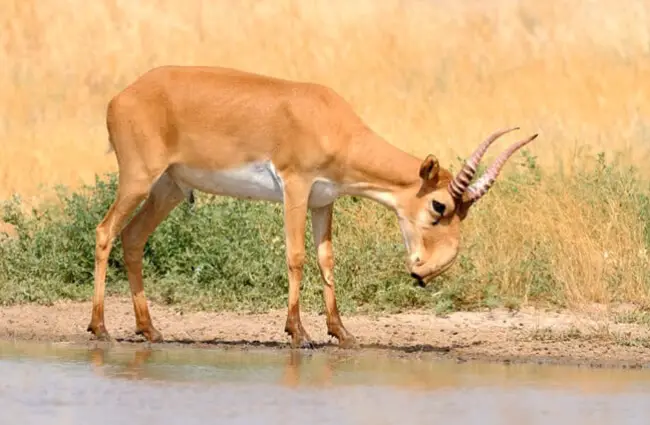saiga: (92, 63, 541, 353)
